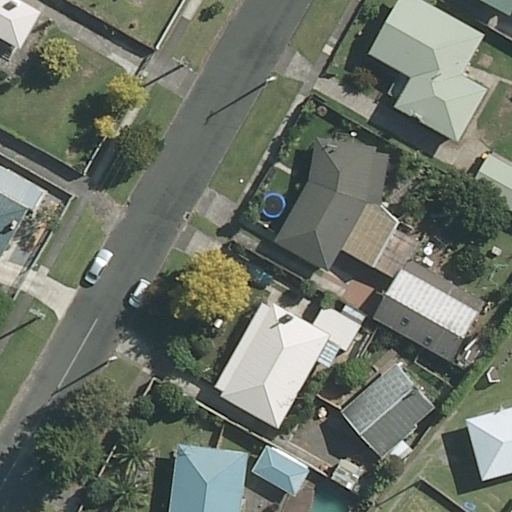DT: (22, 307, 49, 323), (171, 52, 189, 70), (257, 71, 278, 85), (105, 353, 117, 365)
